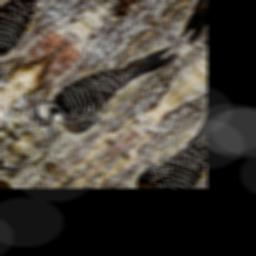Woodpecker: (23, 17, 181, 156)
